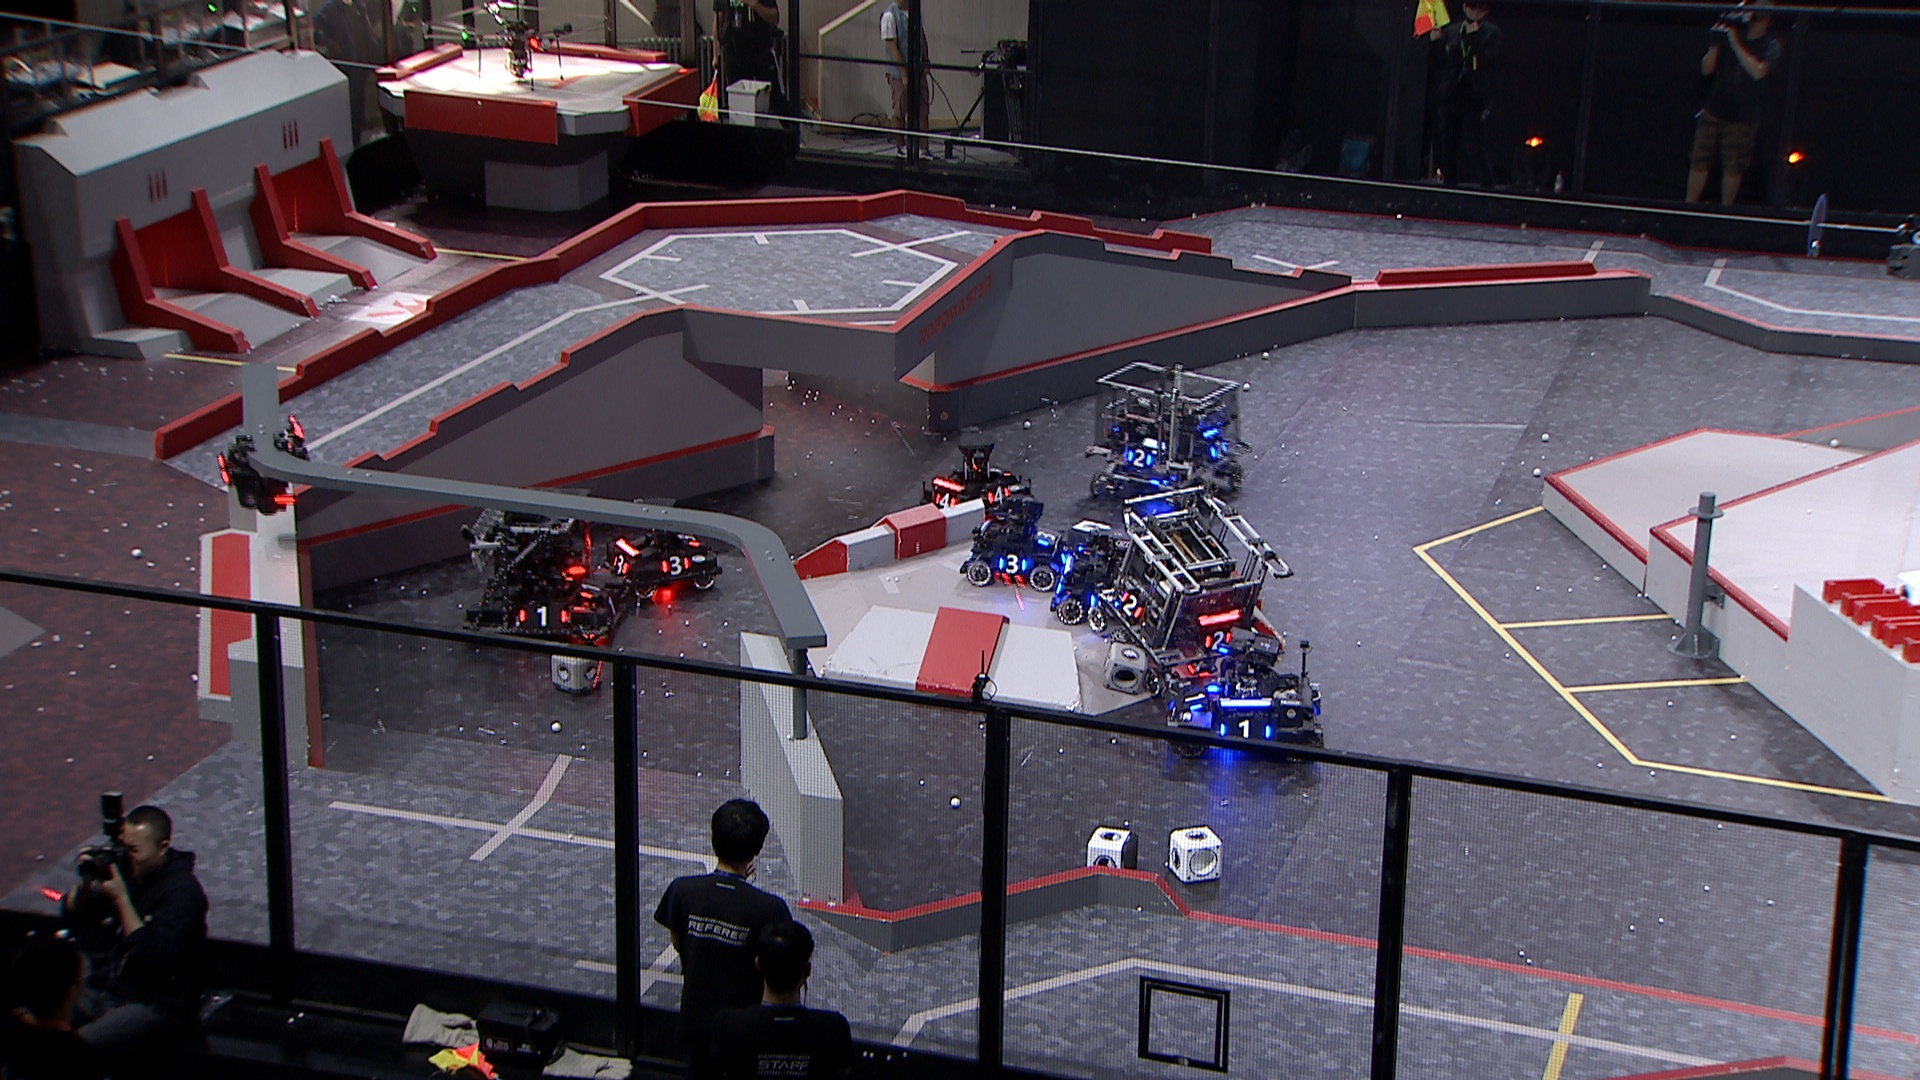armor: (517, 605, 568, 632), (1218, 719, 1273, 744), (993, 553, 1029, 578), (1116, 589, 1145, 618), (1201, 628, 1233, 651), (659, 553, 690, 576), (1122, 448, 1154, 469), (1182, 688, 1207, 712), (607, 553, 632, 575), (576, 579, 603, 600), (1035, 526, 1058, 550), (1207, 439, 1229, 462), (986, 487, 1011, 506), (934, 491, 957, 510), (603, 595, 621, 618), (678, 531, 704, 547), (1166, 699, 1182, 723)
car: (1091, 483, 1292, 683), (458, 484, 636, 647), (1083, 361, 1249, 512), (1159, 628, 1331, 766), (599, 496, 728, 604), (957, 491, 1072, 591), (918, 431, 1031, 524), (1050, 533, 1159, 622)
watcher: (216, 414, 313, 518)
